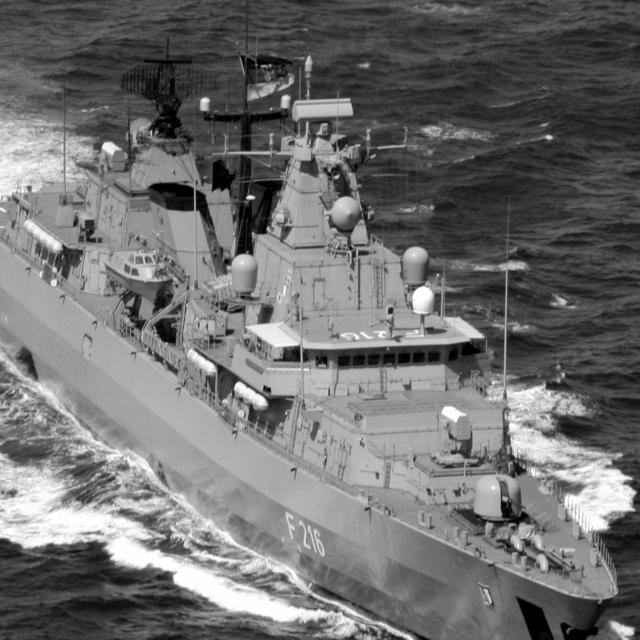Fragata: (1, 1, 628, 640)
